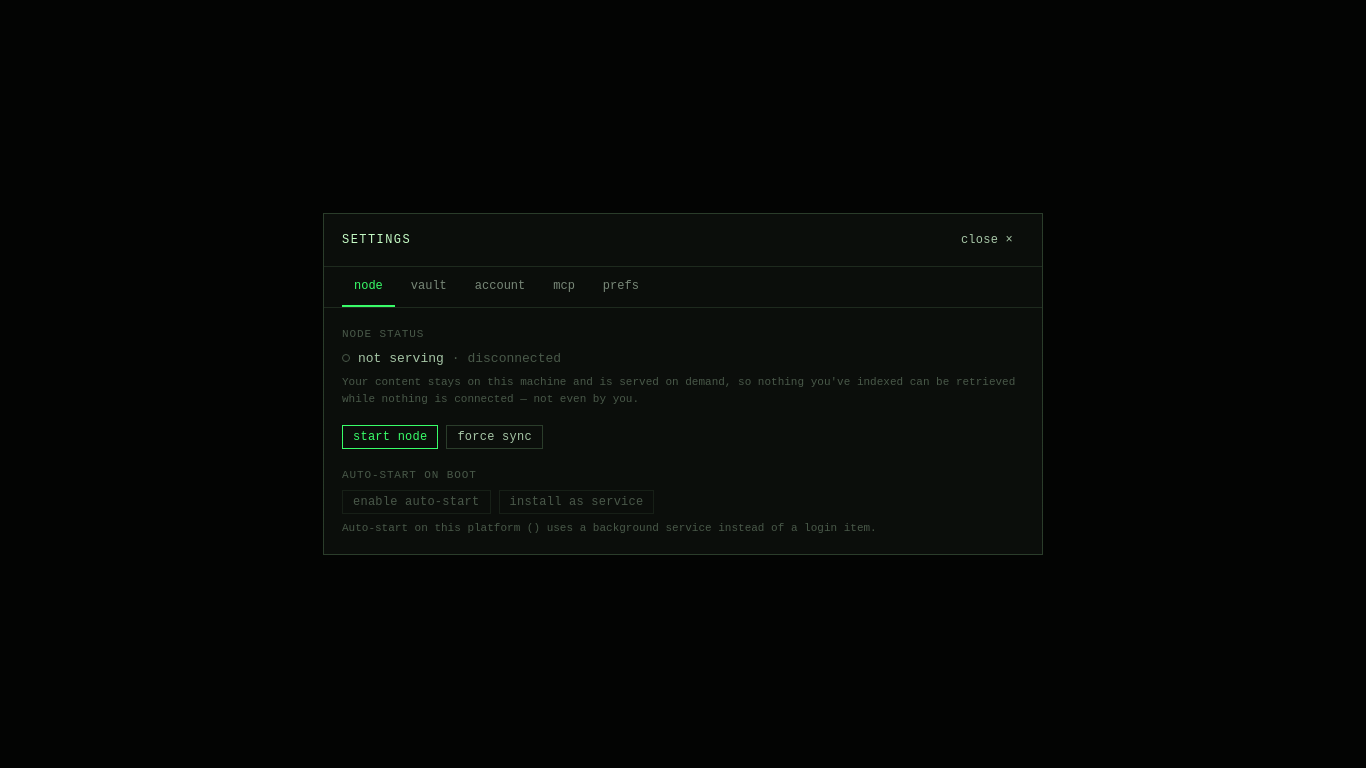
it: Settings · signed-out and expired states › disables the payment controls when signed out
The image size is (1366, 768).
Click the text "account": click(500, 286) [475,279,525,293]
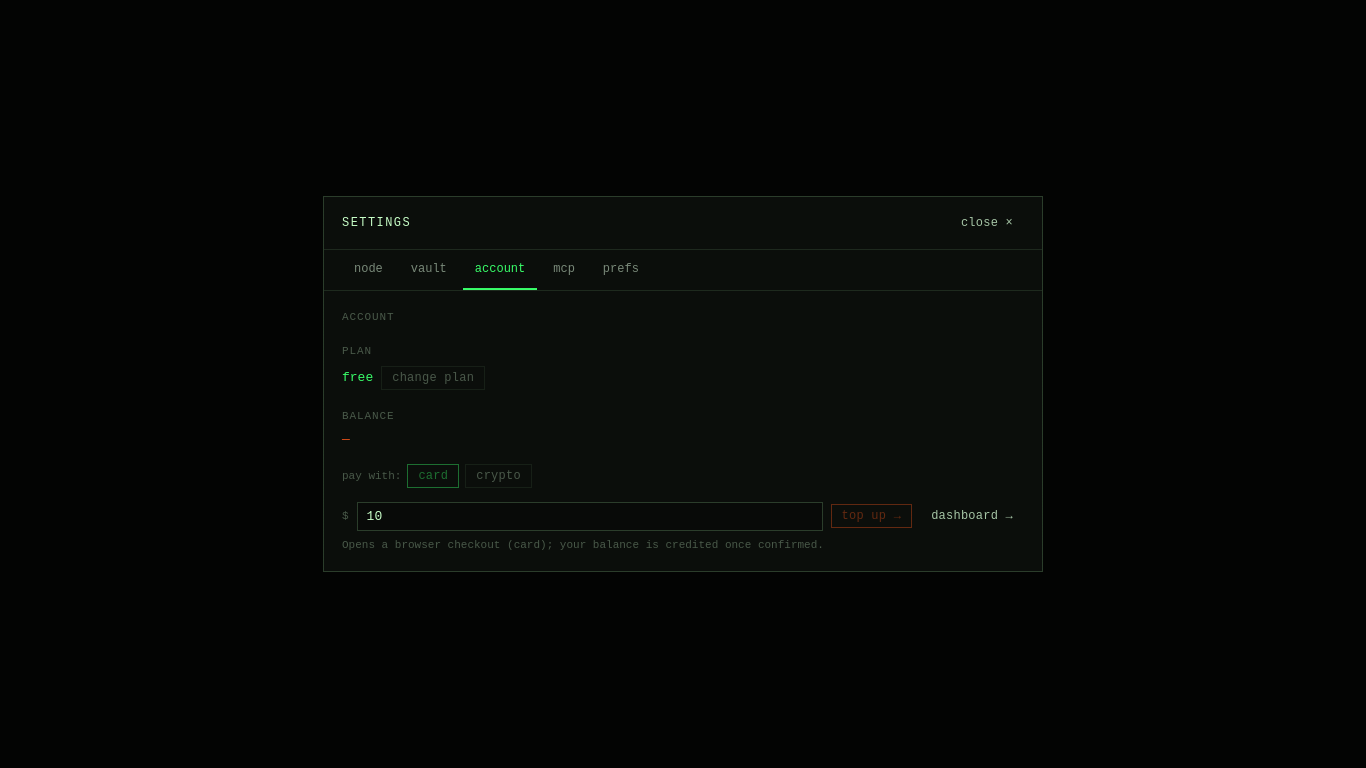
Now the button "top up →" is disabled, box [831,504,912,528]
Now the button "card" is disabled, box [407,464,459,488]
Now the button "crypto" is disabled, box [465,464,532,488]
